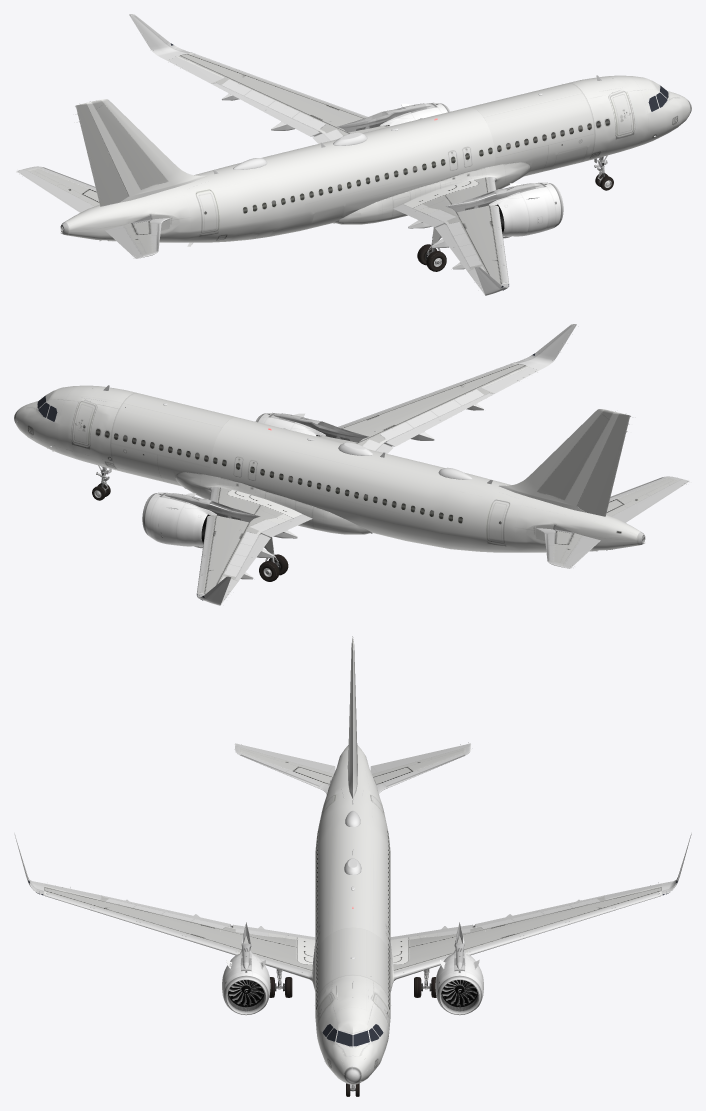
The picture shows the model from 3 angles, top to bottom: view 1: azimuth 30°, elevation 25°; view 2: azimuth 150°, elevation 25°; view 3: azimuth 270°, elevation 25°; orthographic projection. The views are drawn at different scales.
Parts seen in each view (by area): view 1: Fuselage, Wings, Rudder, Hstabs, EngineLEAPR, Sharklet, ReverserRDoorLEAP, PylonLEAPR, PylonLEAPL, FlapL2, DoorR4, ElevatorL (+10 smaller); view 2: Fuselage, Wings, Rudder, Hstabs, EngineLEAPL, Sharklet, ReverserLDoorLEAP, PylonLEAPL, PylonLEAPR, FlapR2, DoorL4, ElevatorR (+8 smaller); view 3: Fuselage, Wings, Hstabs, EngineLEAPL, EngineLEAPR, SlatL2, SlatR2, Windsheild.
Part boxes in pixels (bbox=[...]): Fuselage: bbox=[60, 75, 691, 246]; Wings: bbox=[176, 53, 508, 284]; Rudder: bbox=[74, 103, 129, 206]; Hstabs: bbox=[23, 166, 169, 257]; EngineLEAPR: bbox=[505, 182, 560, 236]; Sharklet: bbox=[127, 14, 508, 295]; ReverserRDoorLEAP: bbox=[489, 197, 529, 238]; PylonLEAPR: bbox=[446, 183, 541, 212]; PylonLEAPL: bbox=[337, 103, 432, 132]; FlapL2: bbox=[212, 83, 321, 136]; DoorR4: bbox=[195, 188, 219, 234]; ElevatorL: bbox=[16, 169, 93, 212]; Fuselage: bbox=[14, 385, 645, 552]; Wings: bbox=[197, 363, 529, 594]; Rudder: bbox=[576, 413, 635, 516]; Hstabs: bbox=[536, 476, 681, 567]; EngineLEAPL: bbox=[145, 492, 200, 545]; Sharklet: bbox=[197, 324, 578, 605]; ReverserLDoorLEAP: bbox=[176, 507, 216, 548]; PylonLEAPL: bbox=[164, 493, 260, 522]; PylonLEAPR: bbox=[273, 413, 368, 442]; FlapR2: bbox=[384, 393, 493, 446]; DoorL4: bbox=[486, 498, 510, 544]; ElevatorR: bbox=[612, 479, 689, 522]; Fuselage: bbox=[311, 640, 394, 1084]; Wings: bbox=[44, 886, 661, 980]; Hstabs: bbox=[234, 746, 470, 794]; EngineLEAPL: bbox=[435, 953, 483, 1011]; EngineLEAPR: bbox=[222, 953, 270, 1011]; SlatL2: bbox=[468, 892, 660, 955]; SlatR2: bbox=[45, 892, 237, 955]; Windsheild: bbox=[322, 1024, 383, 1046].
Size of the model in its own units: 37.61 by 12.24 by 35.77.
Materials: 9 (4 with a texture image).
